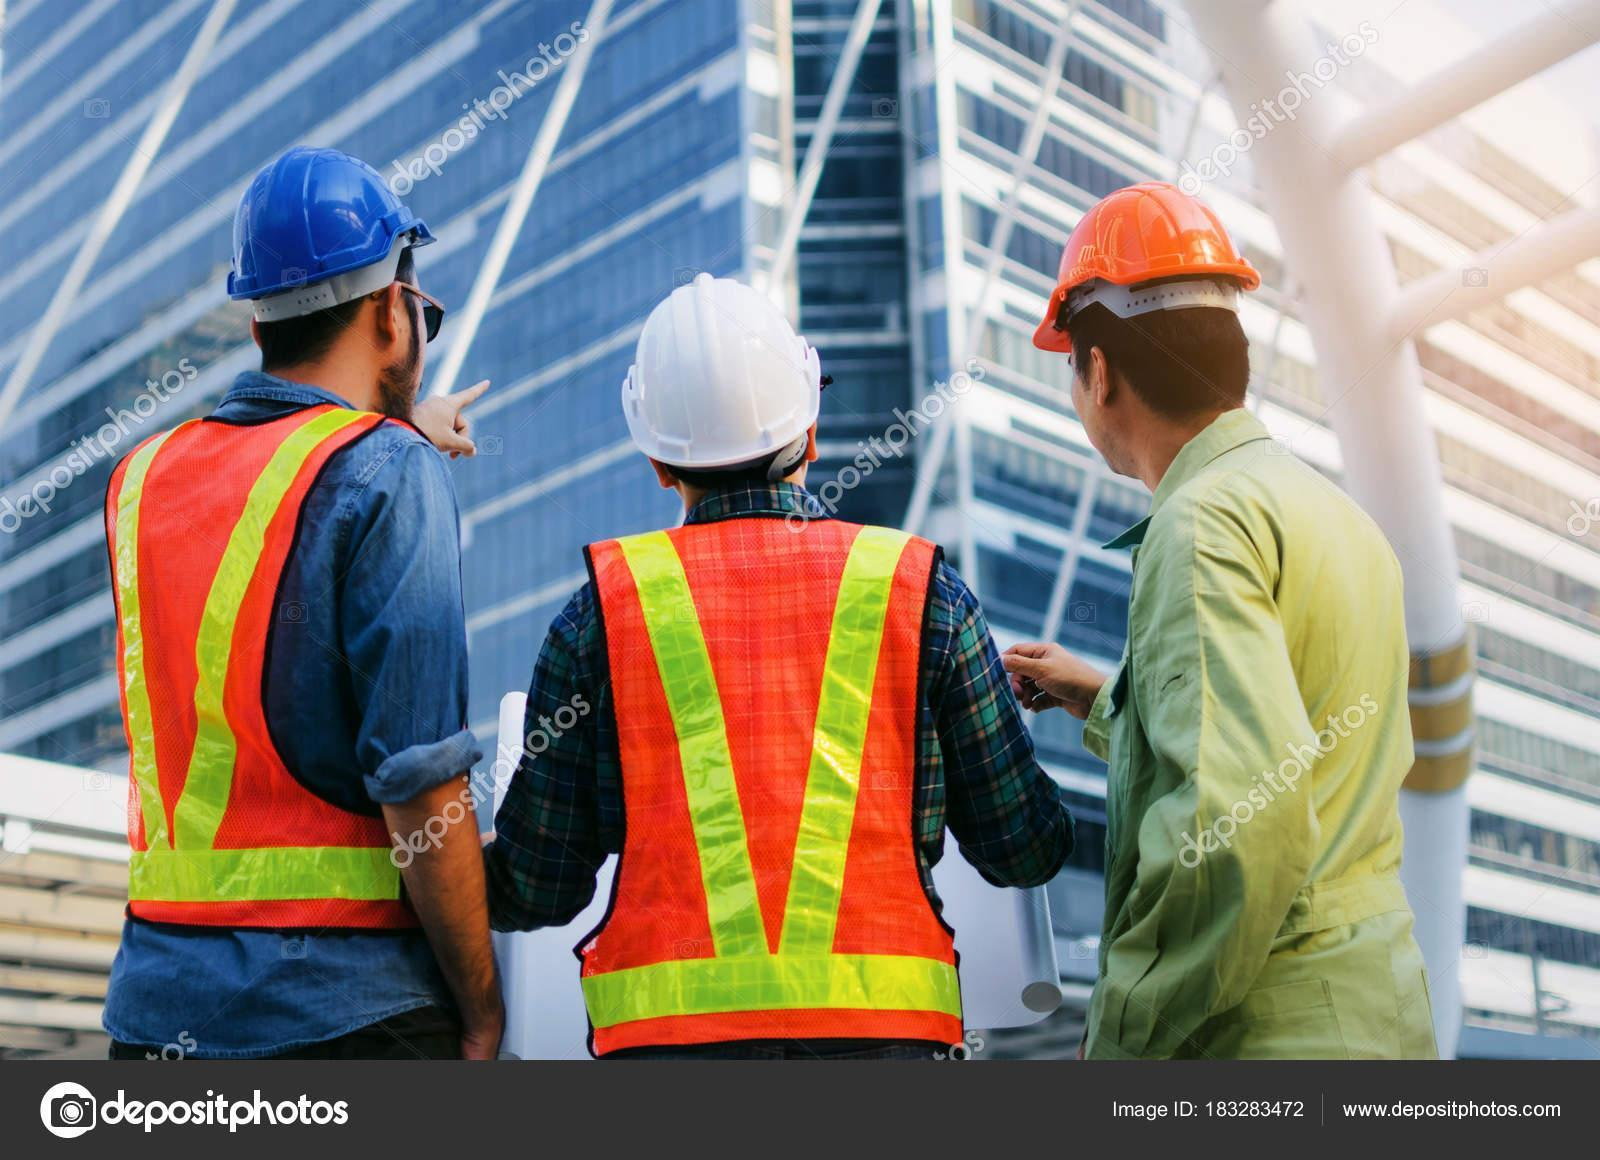helmet: (608, 280, 842, 460), (1018, 187, 1282, 336), (195, 137, 415, 293)
no-vest: (1122, 473, 1449, 1029)
person: (1002, 153, 1459, 1039), (528, 270, 1038, 1040), (101, 144, 511, 1040)
vest: (552, 507, 972, 1057), (115, 397, 455, 927)
